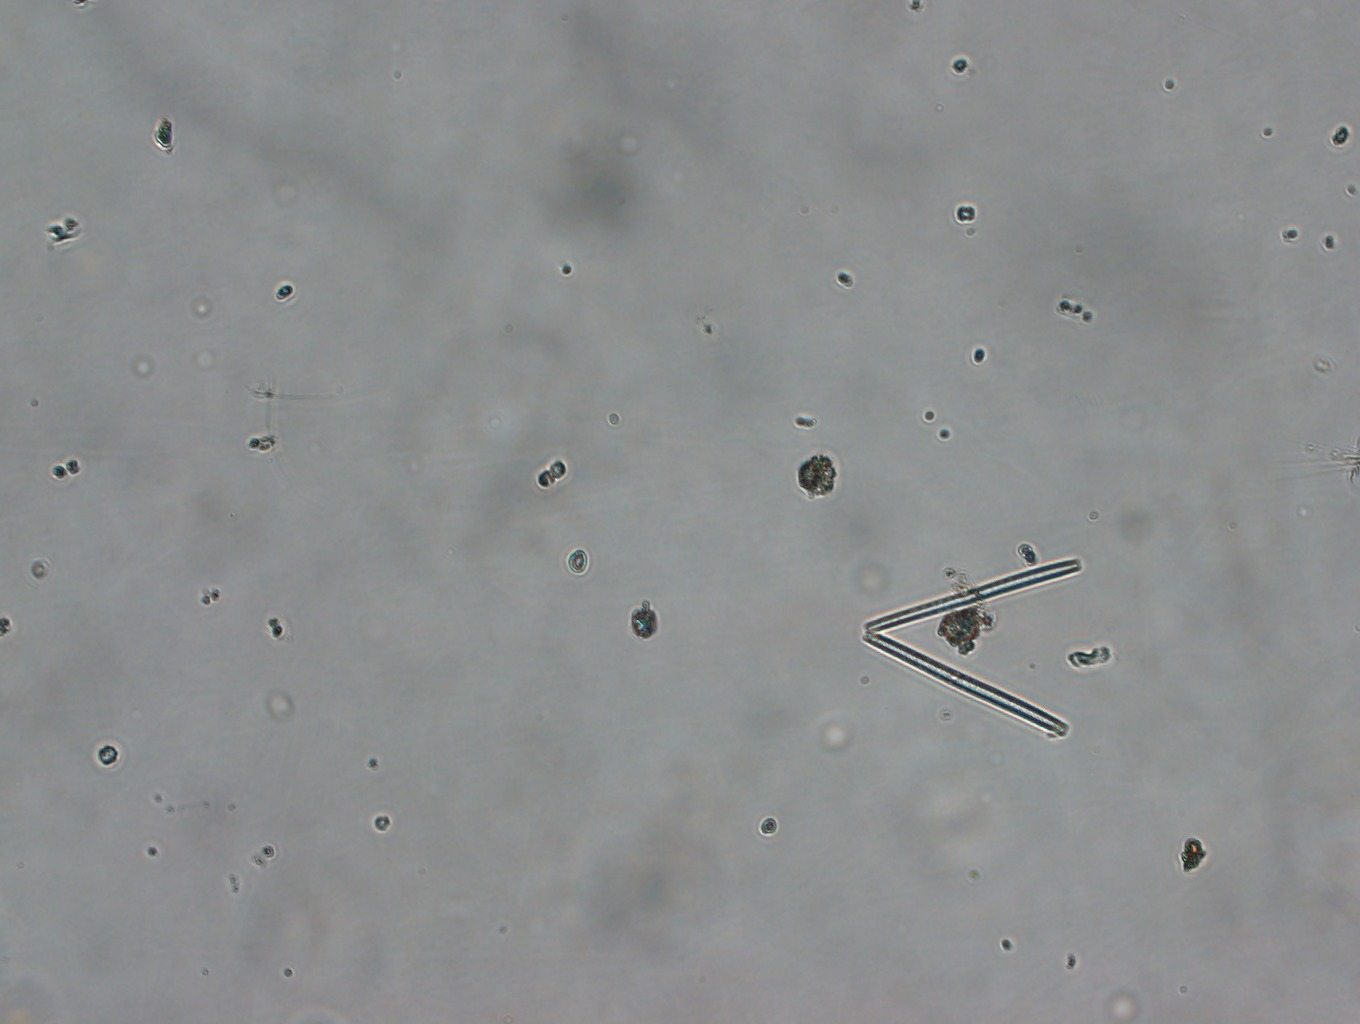thalassionema frauenfeldii: (855, 550, 1091, 750)
